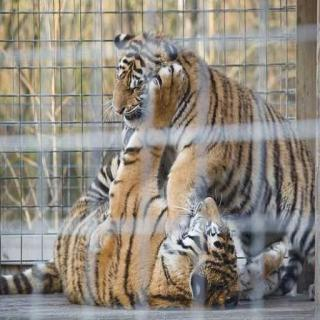Tiger: (110, 26, 314, 263), (48, 112, 253, 312)
